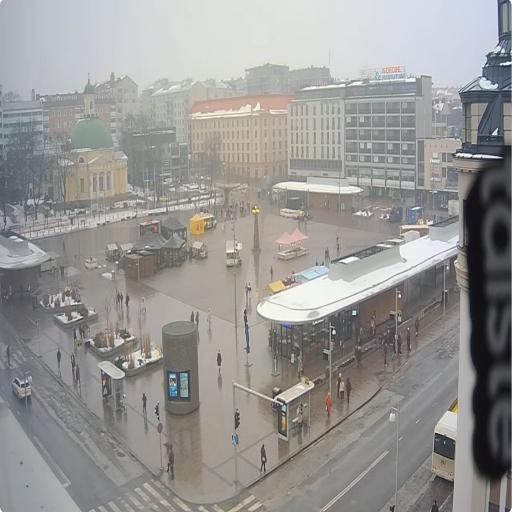Bus: (431, 398, 458, 480)
